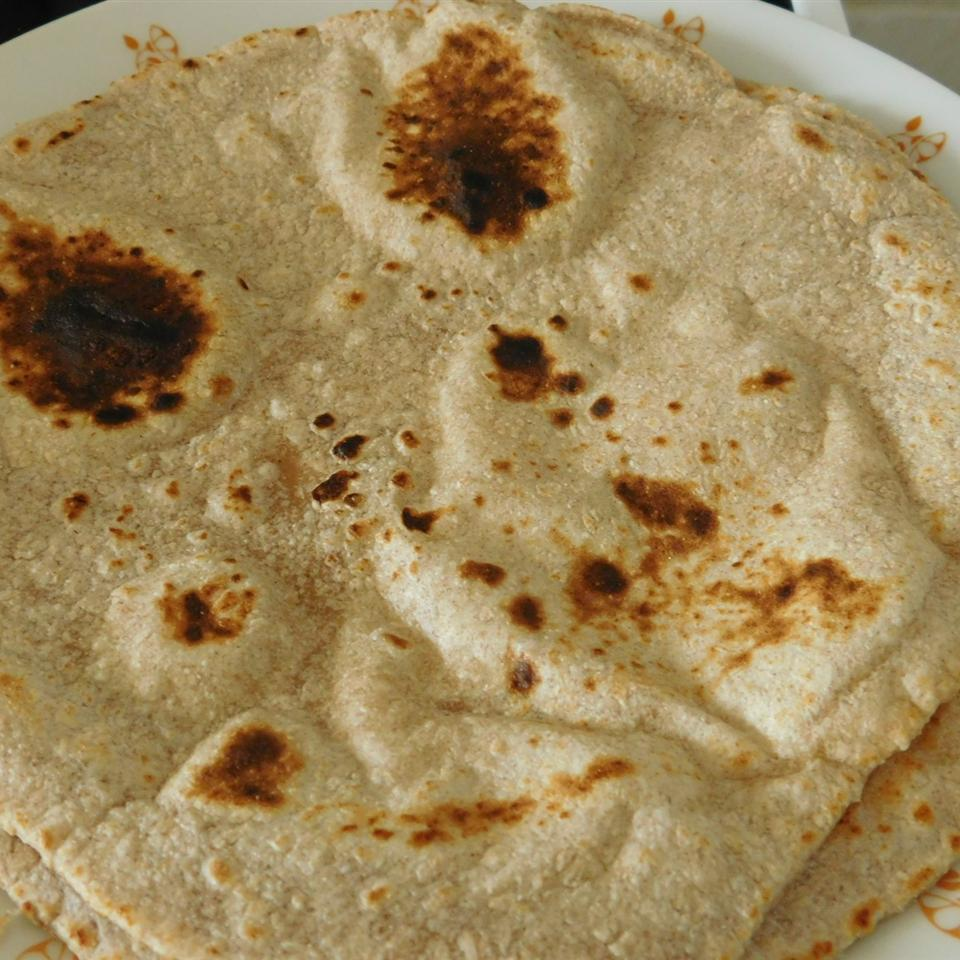roti: (0, 6, 960, 960)
